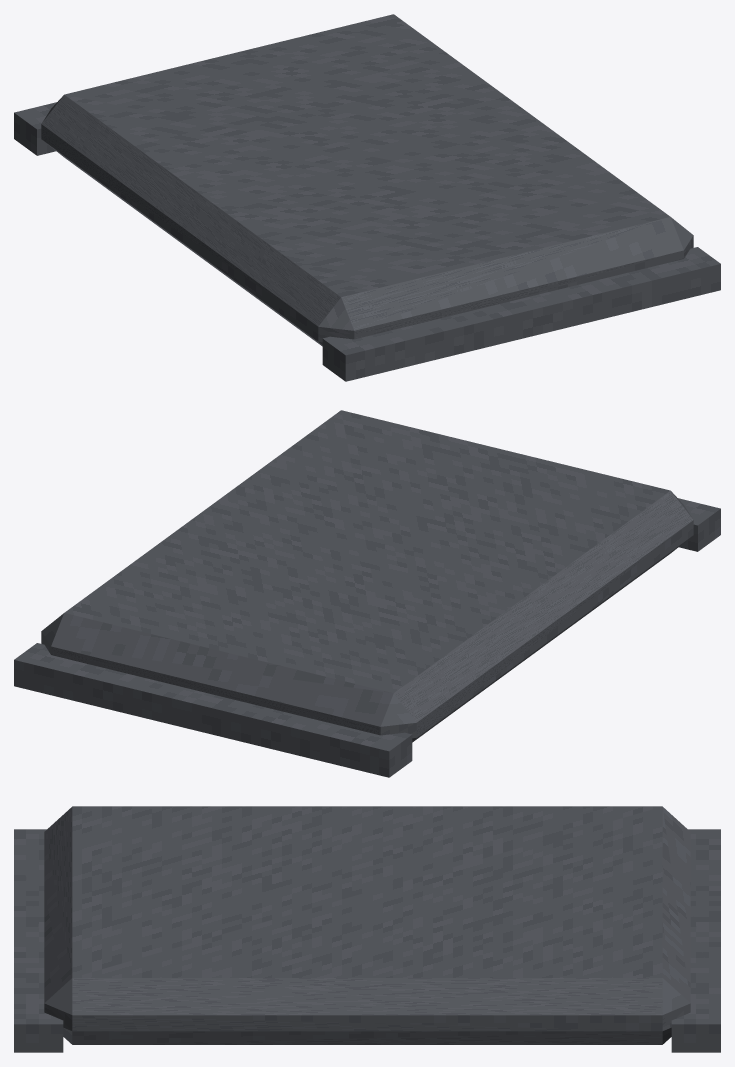
The model's file is nylon_bag.glb.
3 renders of one model, top to bottom at view 1: azimuth 30°, elevation 25°; view 2: azimuth 150°, elevation 25°; view 3: azimuth 270°, elevation 25°, orthographic. The views are drawn at different scales.
Parts seen in each view (by area): view 1: block_sealed pouch, block_sealed ends (×2); view 2: block_sealed pouch, block_sealed ends (×2); view 3: block_sealed pouch, block_sealed ends (×2).
Boxes of the visible parts, <box> form: block_sealed pouch: <box>41,14,693,346</box>; block_sealed ends (×2): <box>14,102,720,381</box>; block_sealed pouch: <box>41,410,693,742</box>; block_sealed ends (×2): <box>14,498,720,777</box>; block_sealed pouch: <box>44,806,690,1044</box>; block_sealed ends (×2): <box>14,829,720,1052</box>.
Bounding box in the file's own units: 0.2386 × 0.0383 × 0.3654.
Materials: 1 (1 with a texture image).
